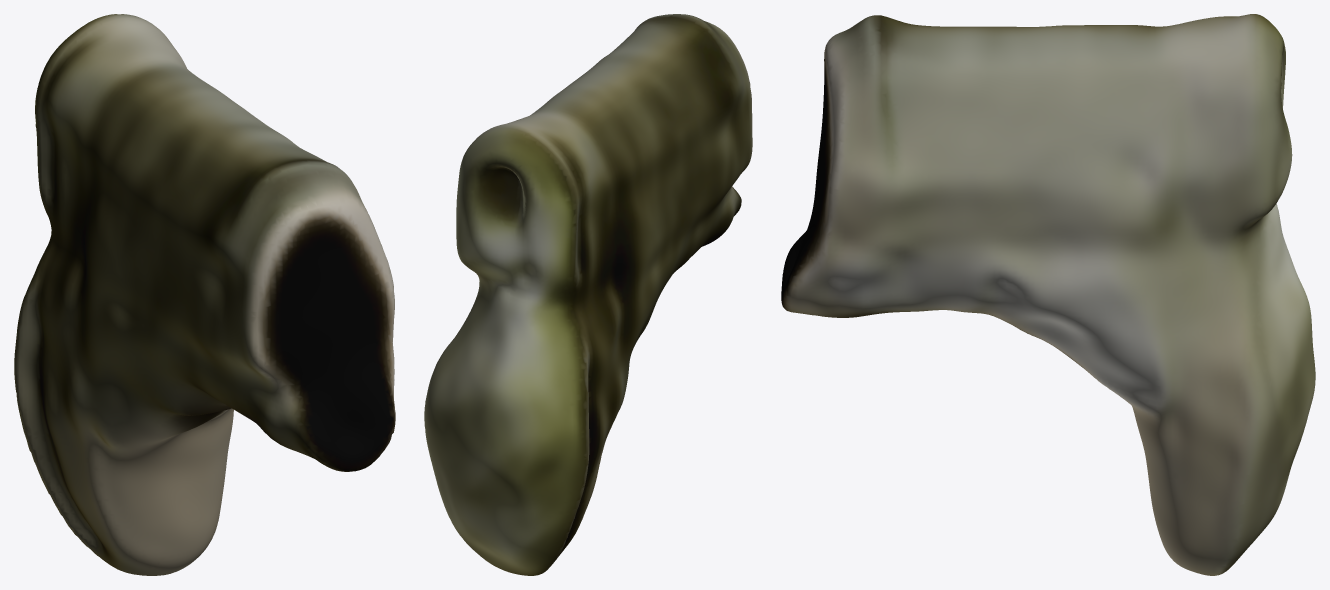
Rendered from shoe1.glb.
3 views of the same model, side by side, from view 1: azimuth 30°, elevation 25°; view 2: azimuth 150°, elevation 25°; view 3: azimuth 270°, elevation 25° (orthographic). The views are drawn at different scales.
Size of the model in its own units: 0.3796 by 0.9994 by 0.8972.
